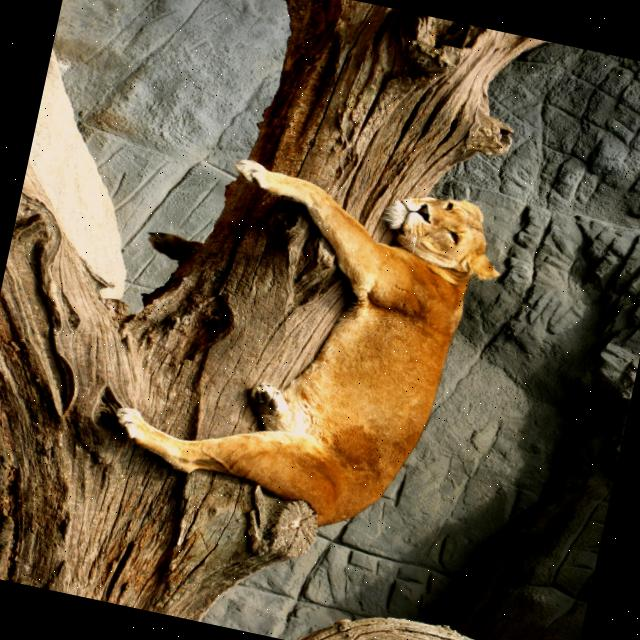Lion: (100, 139, 514, 554)
